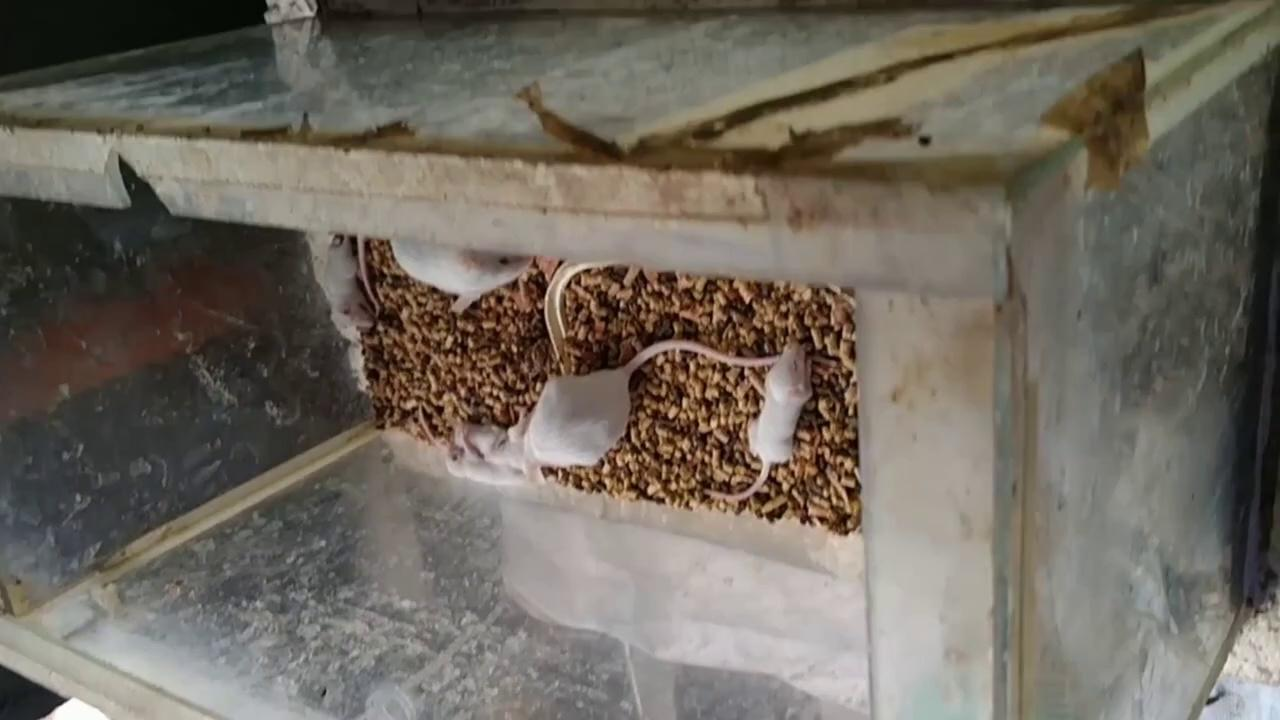rat: (523, 337, 787, 469), (702, 337, 815, 506)
